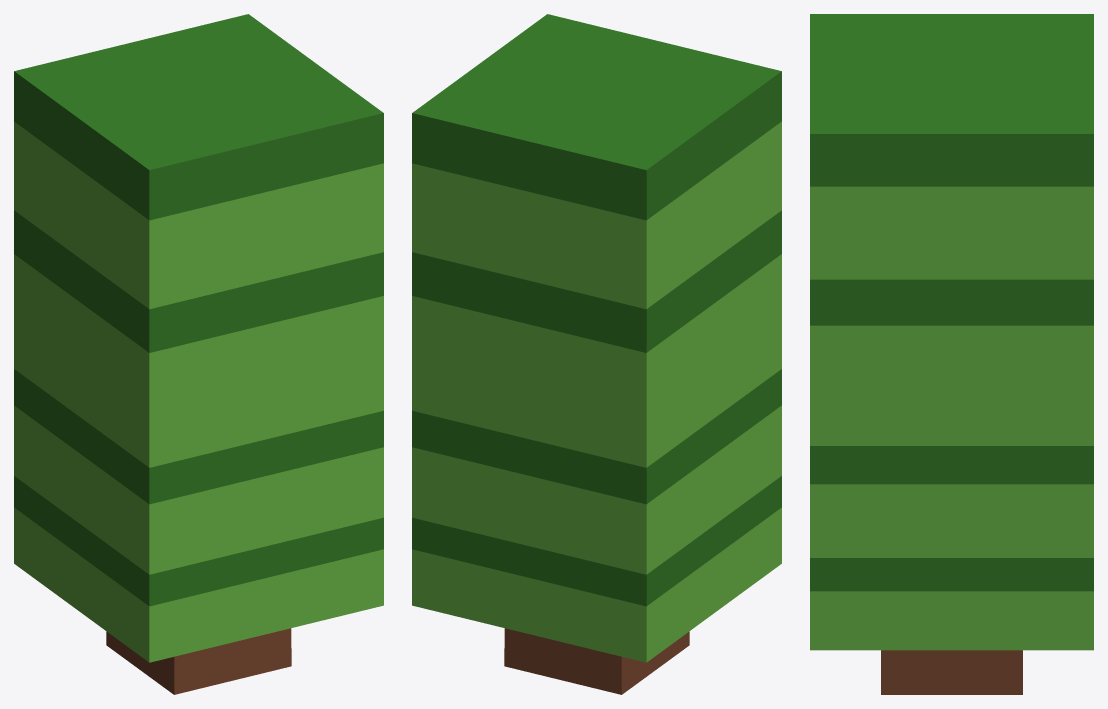
The model's file is medis_paprastas.fbx.
3 views of the same model, side by side, from view 1: azimuth 30°, elevation 25°; view 2: azimuth 150°, elevation 25°; view 3: azimuth 270°, elevation 25° (orthographic). The views are drawn at different scales.
Visible parts, largest first — view 1: medis3; view 2: medis3; view 3: medis3.
Boxes of the visible parts, left/top/right/bottom form: medis3: left=14, top=14, right=383, bottom=694; medis3: left=412, top=14, right=781, bottom=694; medis3: left=810, top=14, right=1093, bottom=694.
Bounding box in the file's own units: 399 × 918 × 399.
